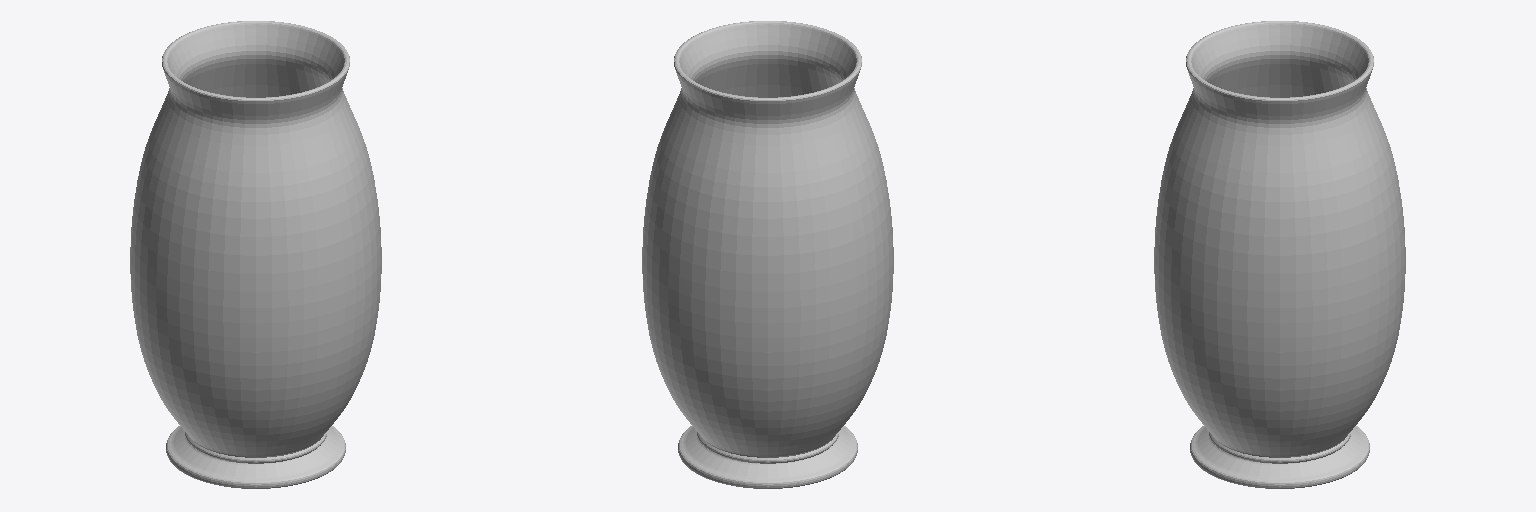
The model's file is vase.obj.
The picture shows the model from 3 angles: view 1: azimuth 30°, elevation 25°; view 2: azimuth 150°, elevation 25°; view 3: azimuth 270°, elevation 25°; orthographic projection.
Parts seen in each view (by area): view 1: antique_ceramic_vase_01_Cylinder.006; view 2: antique_ceramic_vase_01_Cylinder.006; view 3: antique_ceramic_vase_01_Cylinder.006.
Boxes of the visible parts, x1,y1,x2,y2 form: antique_ceramic_vase_01_Cylinder.006: [130, 21, 381, 488]; antique_ceramic_vase_01_Cylinder.006: [642, 21, 893, 488]; antique_ceramic_vase_01_Cylinder.006: [1154, 21, 1405, 488].
Size of the model in its own units: 0.255 by 0.4396 by 0.255.